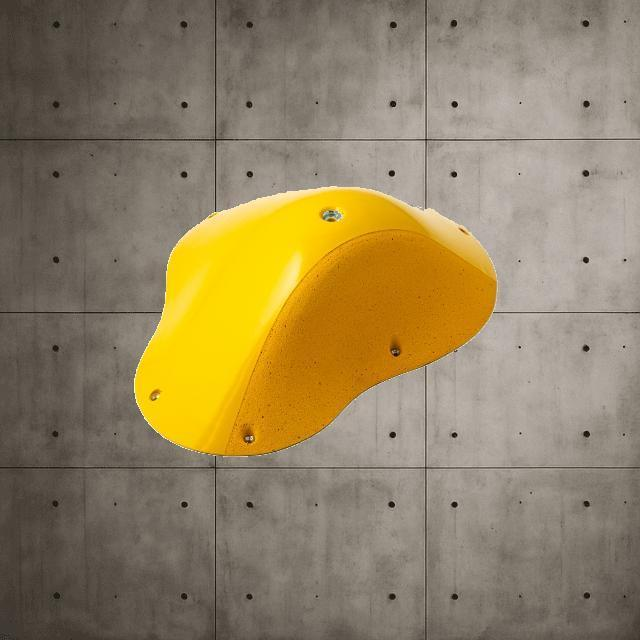Sloper: (134, 180, 498, 458)
